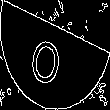O_N: (36, 24, 74, 86)
